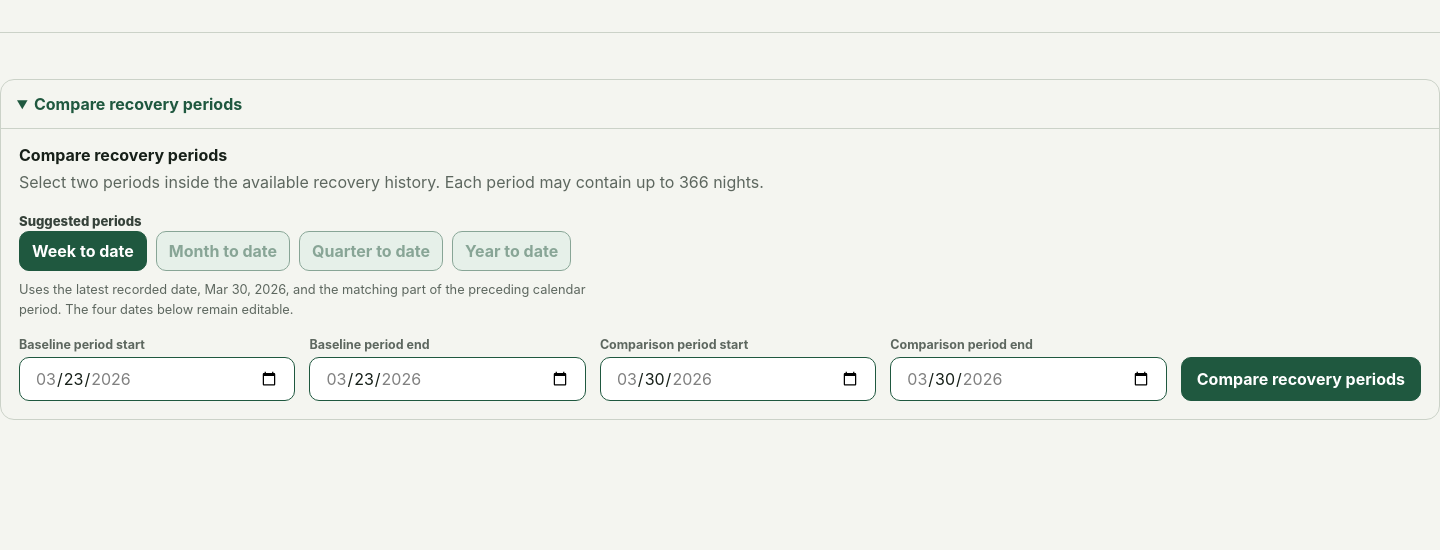
Test: RecoveryComparisonPanel › states when neither period contains a recorded interval without inventing a value
This screenshot has width=1440, height=550.
Click the button "Compare recovery periods".
click(1301, 380)  # box 1181,358 -> 1421,402
(page scrolled)
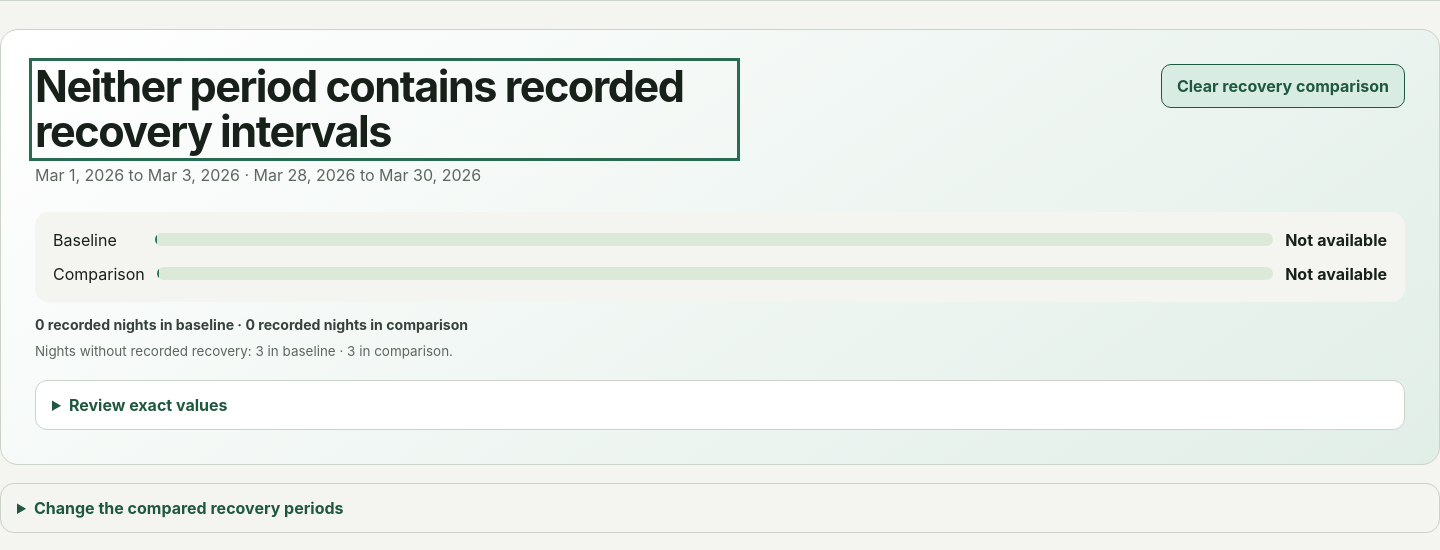
Check: the heading "Neither period contains recorded recovery intervals" is shown, box 35,64 -> 734,155
Check: the text "0 recorded nights in baseline · 0 recorded nights in comparison" is shown, box 35,316 -> 468,332
